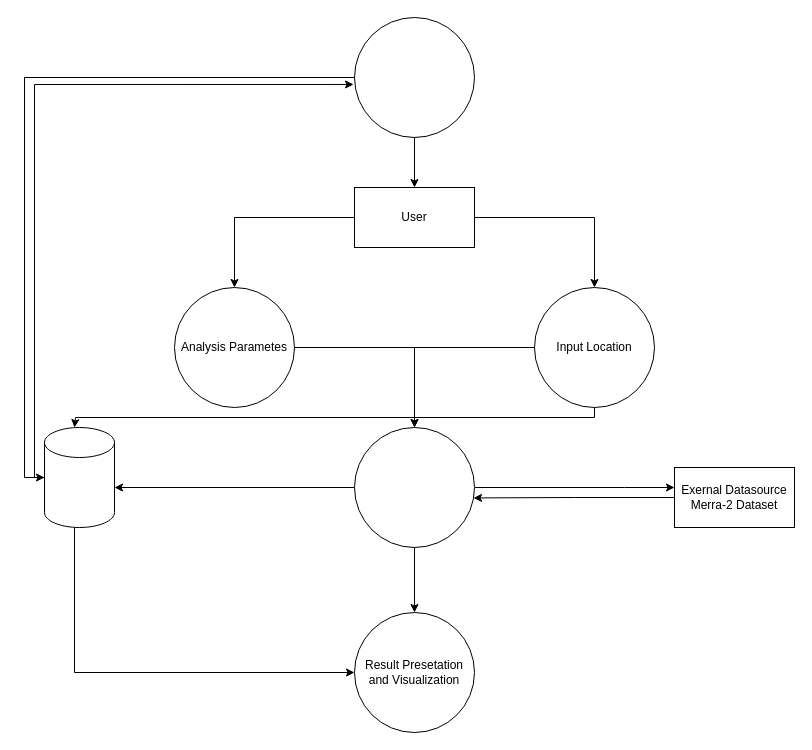
Image size: 812x750. Some labels were removed from this diagram. The shapes that lost their labels are listed below. From the top down, each one's centre as x and y in pixels, then its label:
At [414,77]: "Loing/Register".
At [414,487]: "PV Potential Calculation".
